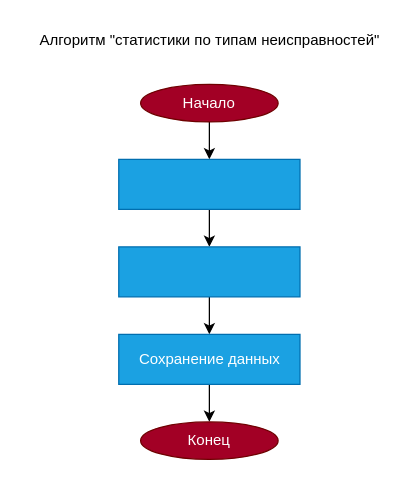
This 418x481 diagram has some shape labels left out. Here are the shapes that lost their labels. From the top down, the centre of each, then its label:
At point (209, 183): "Получение данных из БД всех заявок".
At point (209, 271): "Сортировка заявок по типам неисправности".
